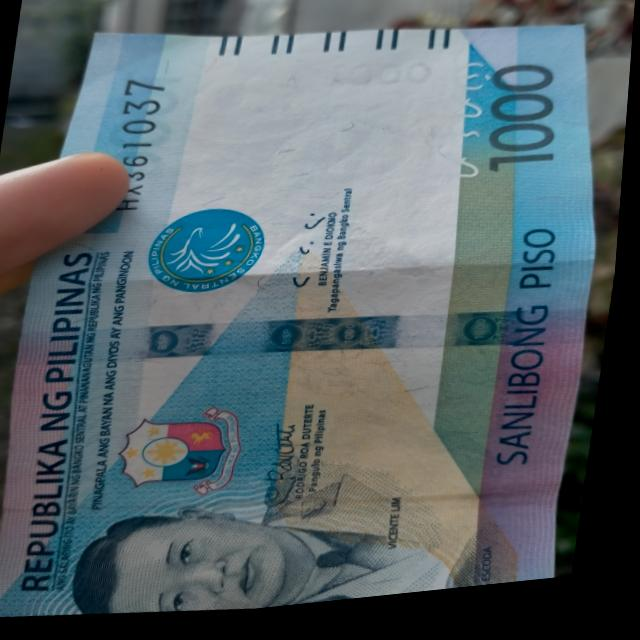security_thread: (19, 280, 592, 410)
see_through_mark: (419, 60, 504, 197)
serial_number: (95, 68, 172, 230)
value_watermark: (322, 57, 439, 104)
watermark: (125, 49, 448, 251)
